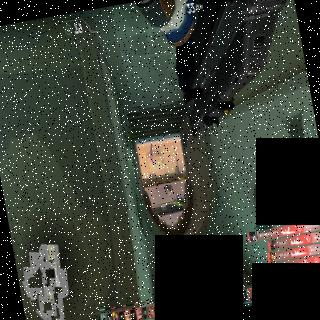ENEMY-BODY: (148, 143, 156, 166)
ENEMY-HEAD: (152, 162, 154, 166)
